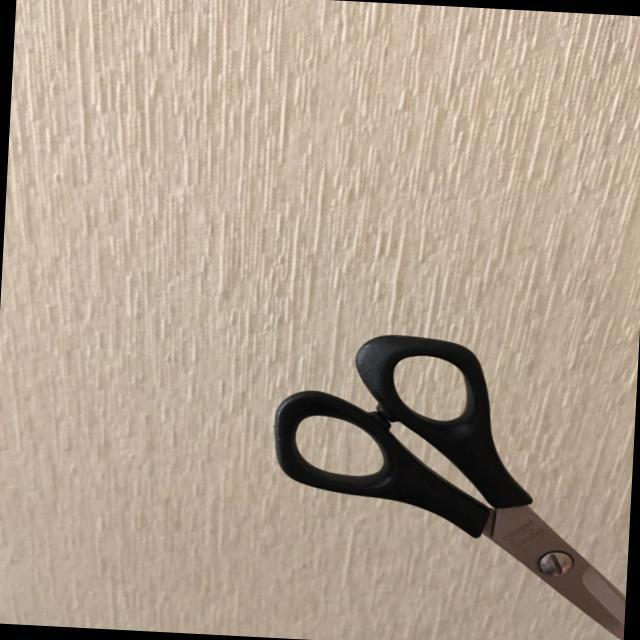scissors: (260, 328, 639, 640)
